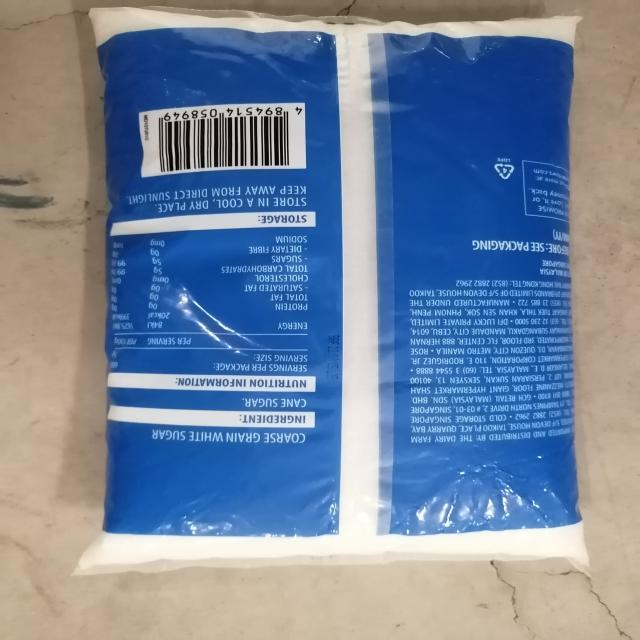object_name: (111, 9, 570, 559)
